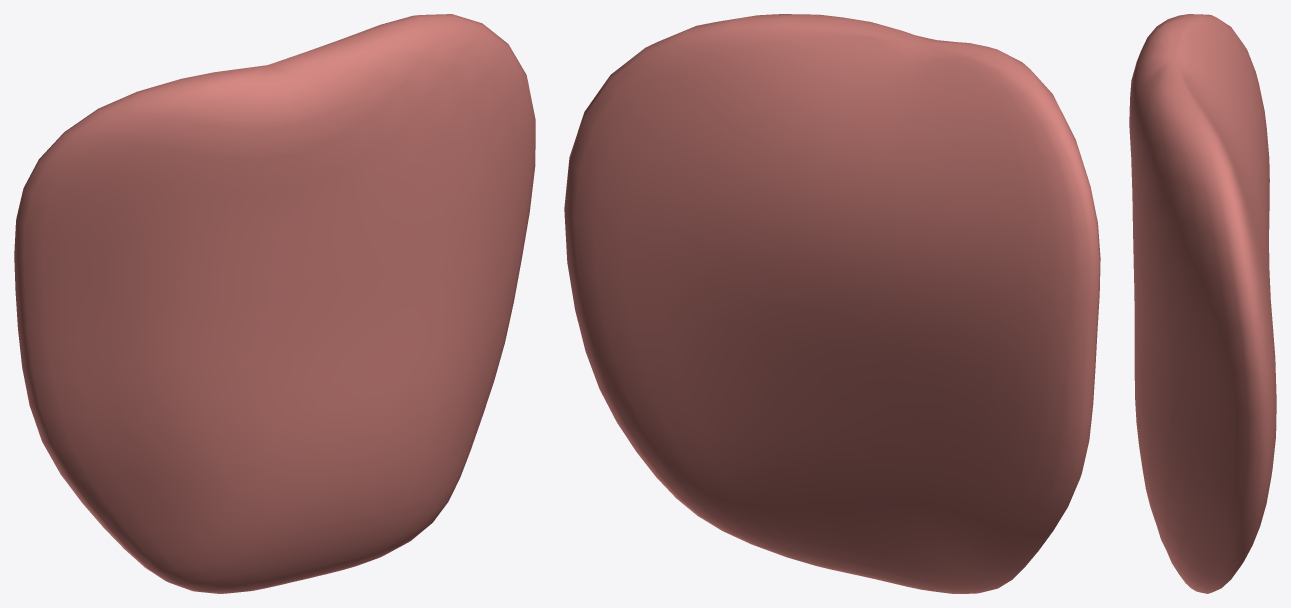
The picture shows the model from 3 angles, left to right: view 1: azimuth 30°, elevation 25°; view 2: azimuth 150°, elevation 25°; view 3: azimuth 270°, elevation 25°; orthographic projection. The views are drawn at different scales.
Parts seen in each view (by area): view 1: ZA_179445dd255f0796; view 2: ZA_179445dd255f0796; view 3: ZA_179445dd255f0796.
Boxes of the visible parts, left/top/right/bottom form: ZA_179445dd255f0796: left=14, top=14, right=535, bottom=593; ZA_179445dd255f0796: left=564, top=14, right=1100, bottom=593; ZA_179445dd255f0796: left=1129, top=14, right=1276, bottom=593.
Size of the model in its own units: 0.0236 by 0.0232 by 0.00647.
